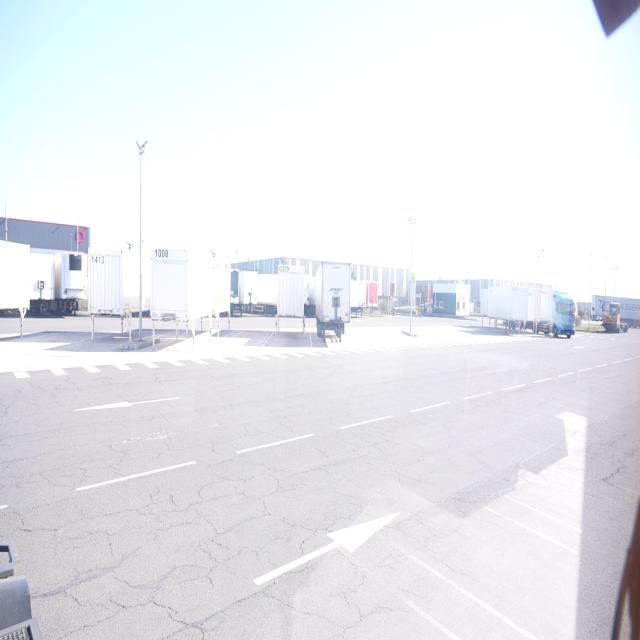Code: (152, 245, 174, 262), (91, 252, 108, 268), (275, 259, 291, 275)
